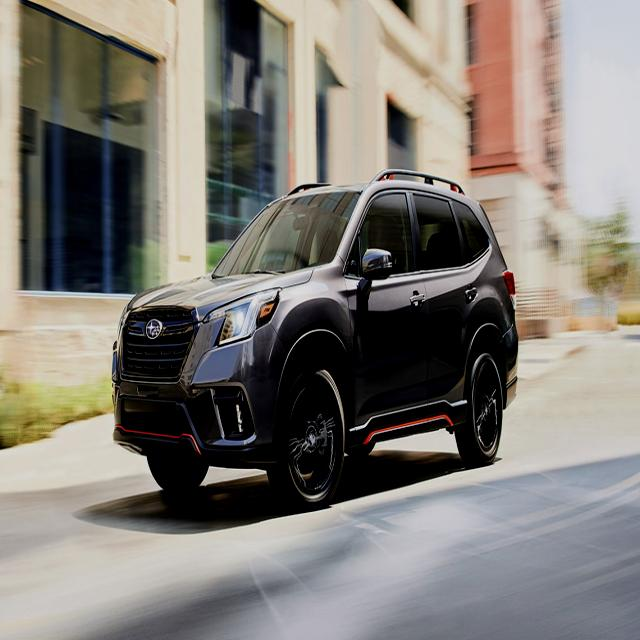SUV: (110, 166, 519, 512)
